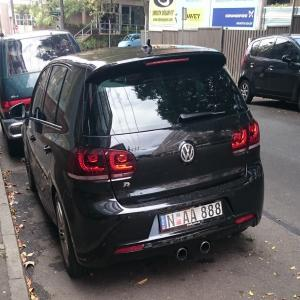Vehicle-registration-plate: (160, 200, 225, 233)
